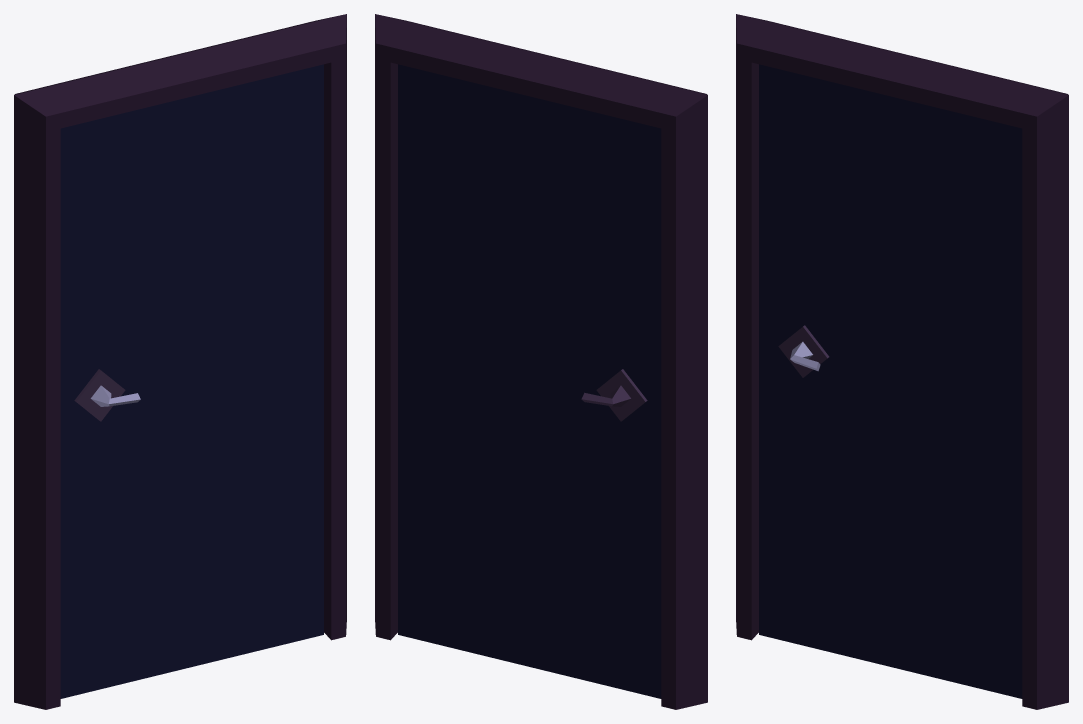
File: Porta.fbx
3 views of the same model, side by side, from view 1: azimuth 30°, elevation 25°; view 2: azimuth 150°, elevation 25°; view 3: azimuth 330°, elevation 25° (orthographic).
Parts seen in each view (by area): view 1: PortaEmSi, BatentePorta, Maçaneta; view 2: PortaEmSi, BatentePorta, Maçaneta; view 3: PortaEmSi, BatentePorta, Maçaneta.
Part boxes in pixels (box(x1,y1,x2,y2)): PortaEmSi: box(60, 64, 323, 698); BatentePorta: box(14, 14, 346, 709); Maçaneta: box(74, 369, 140, 421); PortaEmSi: box(398, 64, 661, 698); BatentePorta: box(375, 14, 707, 709); Maçaneta: box(581, 369, 647, 421); PortaEmSi: box(759, 64, 1022, 698); BatentePorta: box(736, 14, 1068, 709); Maçaneta: box(778, 325, 829, 377).
Bounding box in the file's own units: 3.31 × 5.77 × 0.7941.
